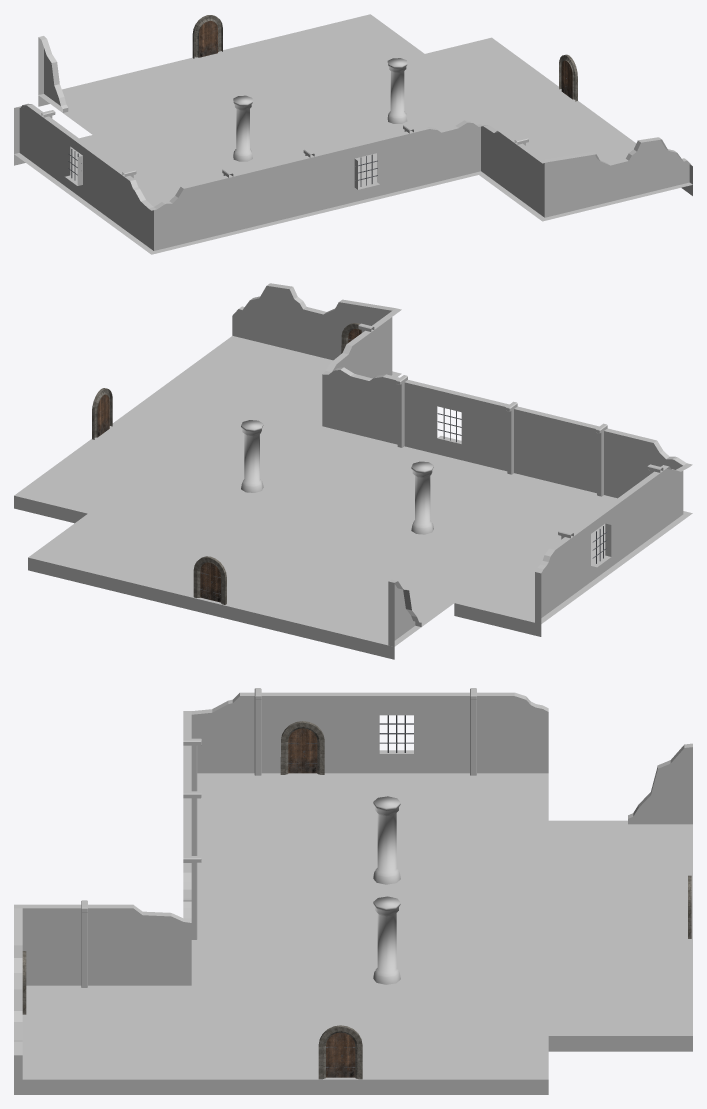
File: def007_room.fbx
3 renders of one model, top to bottom at view 1: azimuth 30°, elevation 25°; view 2: azimuth 150°, elevation 25°; view 3: azimuth 270°, elevation 25°, orthographic. The views are drawn at different scales.
Visible parts, largest first — view 1: def007_floor, wall007_3, pillar_002.015, pillar_002.016, door_wood.027, door_stone.027, door_stone.028, door_wood.028; view 2: def007_floor, wall007_3, pillar_002.016, pillar_002.015, door_wood.027, door_stone.027, pillar_001.043; view 3: def007_floor, wall007_3, pillar_002.016, pillar_002.015, door_wood.026, door_wood.028, door_stone.026, door_stone.028, pillar_001.046, pillar_001.043, pillar_001.047.
Boxes of the visible parts, left/top/right/bottom form: def007_floor: left=14, top=14, right=692, bottom=254; wall007_3: left=14, top=36, right=692, bottom=250; pillar_002.015: left=387, top=58, right=407, bottom=123; pillar_002.016: left=233, top=95, right=252, bottom=161; door_wood.027: left=199, top=21, right=217, bottom=57; door_stone.027: left=192, top=15, right=222, bottom=58; door_stone.028: left=559, top=54, right=577, bottom=101; door_wood.028: left=561, top=60, right=572, bottom=99; def007_floor: left=14, top=336, right=692, bottom=659; wall007_3: left=232, top=283, right=692, bottom=646; pillar_002.016: left=411, top=461, right=433, bottom=534; pillar_002.015: left=241, top=420, right=263, bottom=492; door_wood.027: left=200, top=562, right=220, bottom=602; door_stone.027: left=193, top=556, right=226, bottom=604; pillar_001.043: left=395, top=375, right=407, bottom=447; def007_floor: left=14, top=773, right=692, bottom=1094; wall007_3: left=14, top=692, right=692, bottom=1079; pillar_002.016: left=373, top=796, right=400, bottom=884; pillar_002.015: left=373, top=896, right=400, bottom=984; door_wood.026: left=288, top=728, right=317, bottom=773; door_wood.028: left=326, top=1032, right=355, bottom=1077; door_stone.026: left=280, top=721, right=324, bottom=774; door_stone.028: left=318, top=1025, right=362, bottom=1079; pillar_001.046: left=254, top=688, right=261, bottom=775; pillar_001.043: left=183, top=856, right=201, bottom=939; pillar_001.047: left=470, top=688, right=476, bottom=775.
Size of the model in its own units: 4309 by 629 by 3990.
